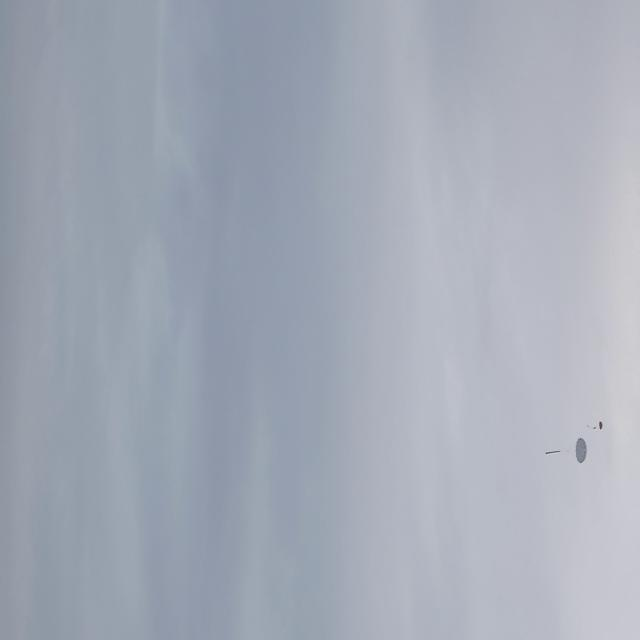Rocket: (546, 451, 561, 455)
